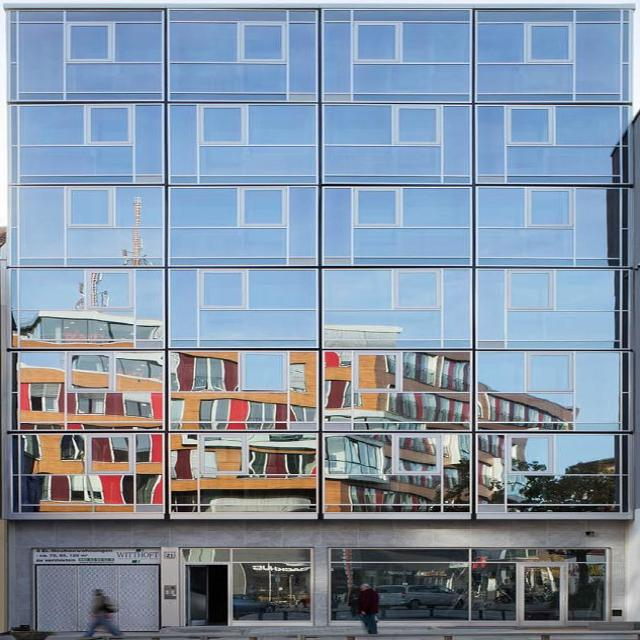door: (515, 560, 570, 627), (182, 562, 232, 624)
wall: (7, 0, 639, 636)
windows: (9, 8, 628, 514), (328, 550, 606, 624), (184, 548, 313, 624)
